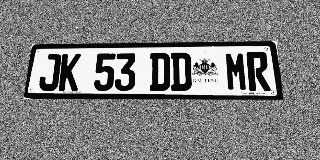3: (114, 53, 136, 91)
5: (94, 53, 116, 91)
D: (171, 52, 192, 91), (149, 53, 170, 91)
J: (38, 54, 62, 91)
K: (58, 54, 81, 91)
M: (224, 52, 248, 91)
R: (246, 52, 271, 91)
